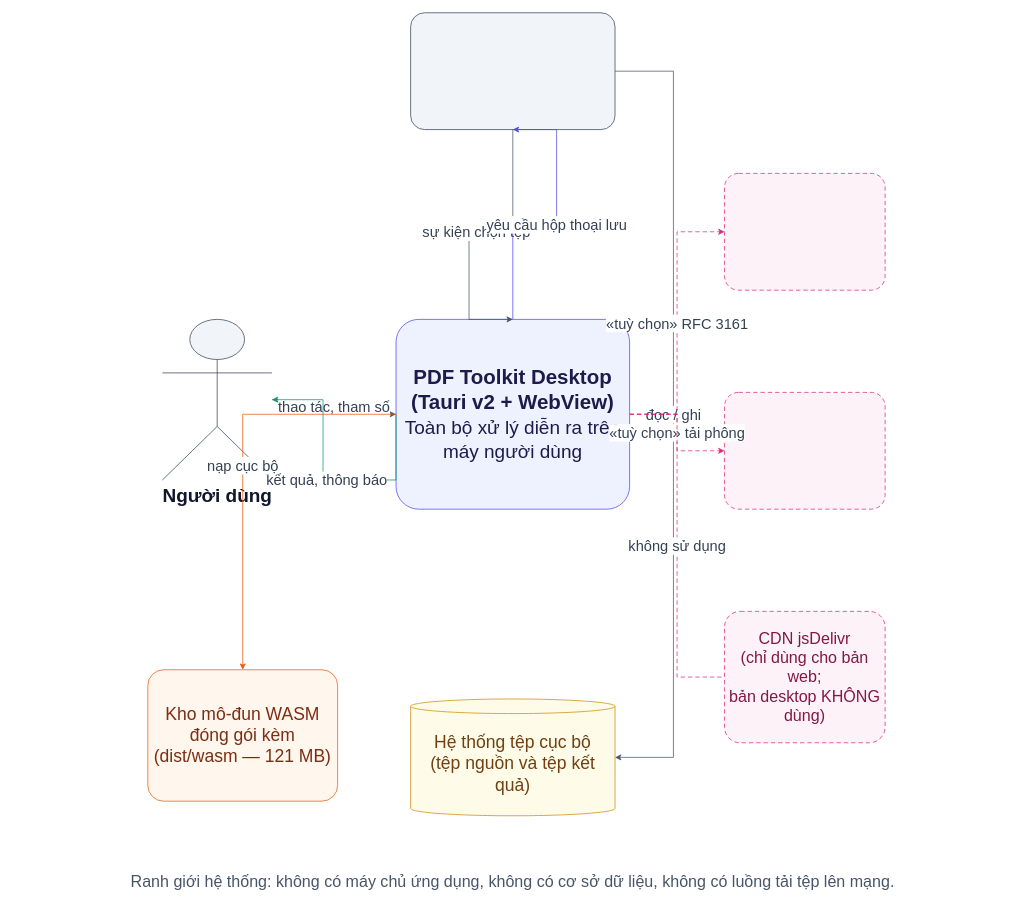
Some shapes in this 1025 by 904 pixel diagram are drawn without their labels. The centre of each missing label's shape, as x and y in pixels:
"Hệ điều hành (hộp thoại chọn/lưu tệp, WebView)" goes at (x=512, y=71).
"Máy chủ TSA (DigiCert, Sectigo, FreeTSA…)" goes at (x=804, y=231).
"Nguồn phông chữ CJK/Noto (tải theo yêu cầu)" goes at (x=804, y=450).
